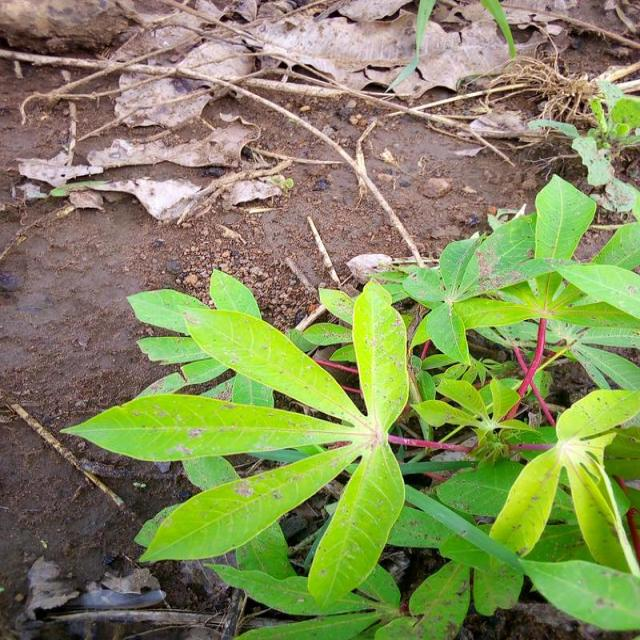cassava leaf: (59, 172, 638, 634), (60, 268, 412, 611)
